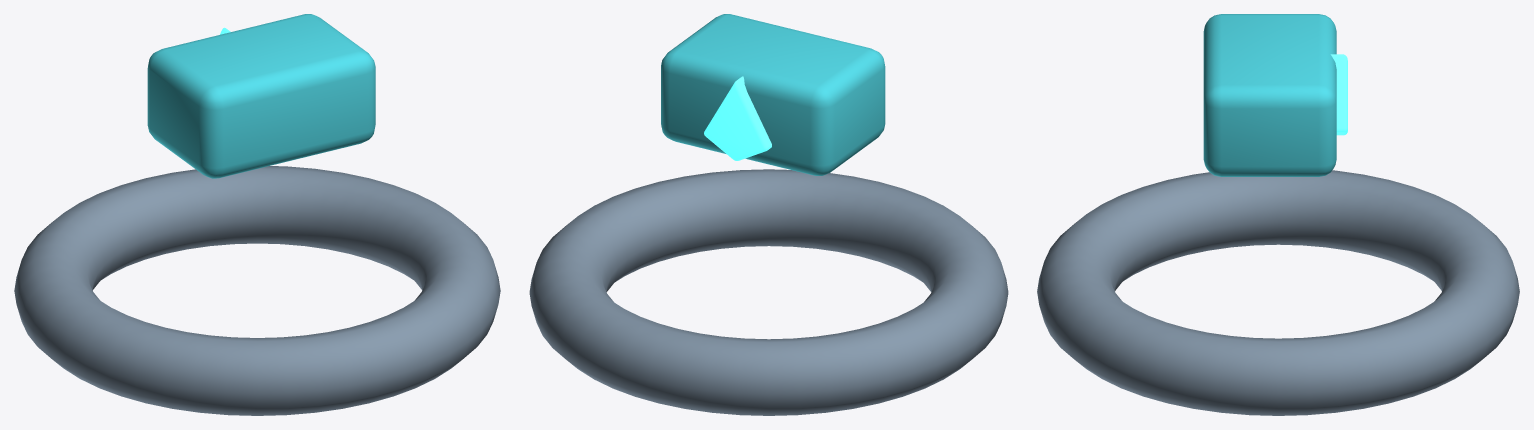
File: ring_v2.glb
3 renders of one model, left to right at view 1: azimuth 30°, elevation 25°; view 2: azimuth 150°, elevation 25°; view 3: azimuth 270°, elevation 25°, orthographic.
Parts seen in each view (by area): view 1: RING_BAND_PRIMARY, SIGNET_FACE_ACCENT; view 2: RING_BAND_PRIMARY, SIGNET_FACE_ACCENT, SIGNET_MARK_EMISSIVE; view 3: RING_BAND_PRIMARY, SIGNET_FACE_ACCENT, SIGNET_MARK_EMISSIVE.
Boxes of the visible parts, left/top/right/bottom form: RING_BAND_PRIMARY: left=14, top=166, right=500, bottom=415; SIGNET_FACE_ACCENT: left=147, top=14, right=375, bottom=178; RING_BAND_PRIMARY: left=529, top=169, right=1008, bottom=415; SIGNET_FACE_ACCENT: left=661, top=14, right=885, bottom=175; SIGNET_MARK_EMISSIVE: left=704, top=76, right=771, bottom=160; RING_BAND_PRIMARY: left=1037, top=170, right=1519, bottom=415; SIGNET_FACE_ACCENT: left=1203, top=14, right=1336, bottom=176; SIGNET_MARK_EMISSIVE: left=1330, top=54, right=1347, bottom=135.
Bounding box in the file's own units: 1.74 × 1.1 × 1.74.
